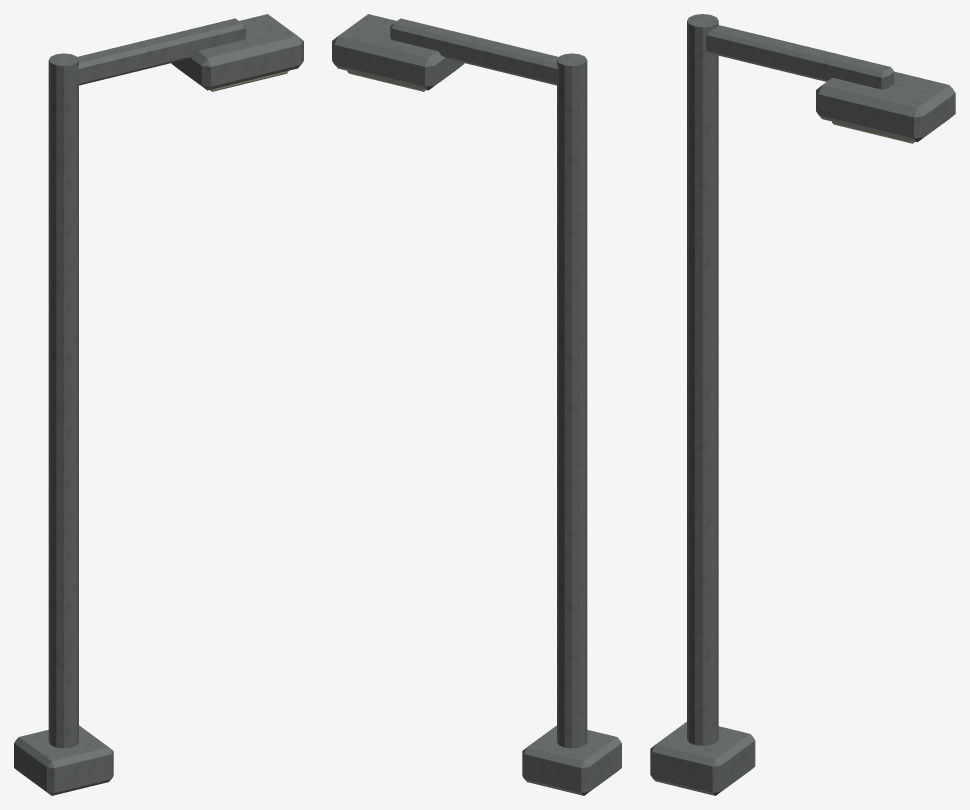
The model's file is street_lamp.glb.
3 views of the same model, side by side, from view 1: azimuth 30°, elevation 25°; view 2: azimuth 150°, elevation 25°; view 3: azimuth 330°, elevation 25° (orthographic). The views are drawn at different scales.
Visible parts, largest first — view 1: Pole, Housing, Base, Arm; view 2: Pole, Housing, Base, Arm; view 3: Pole, Housing, Arm, Base.
Boxes of the visible parts, x1=… form: Pole: x1=48, y1=53, x2=78, y2=748; Housing: x1=171, y1=14, x2=303, y2=90; Base: x1=14, y1=725, x2=113, y2=795; Arm: x1=77, y1=18, x2=245, y2=85; Pole: x1=557, y1=53, x2=587, y2=748; Housing: x1=332, y1=14, x2=464, y2=90; Base: x1=522, y1=725, x2=621, y2=795; Arm: x1=390, y1=18, x2=558, y2=85; Pole: x1=687, y1=14, x2=718, y2=745; Housing: x1=816, y1=71, x2=955, y2=142; Arm: x1=706, y1=25, x2=894, y2=89; Base: x1=650, y1=722, x2=755, y2=795.
Bounding box in the file's own units: 1.09 × 2.88 × 0.28.
2 materials, 2 textured.
